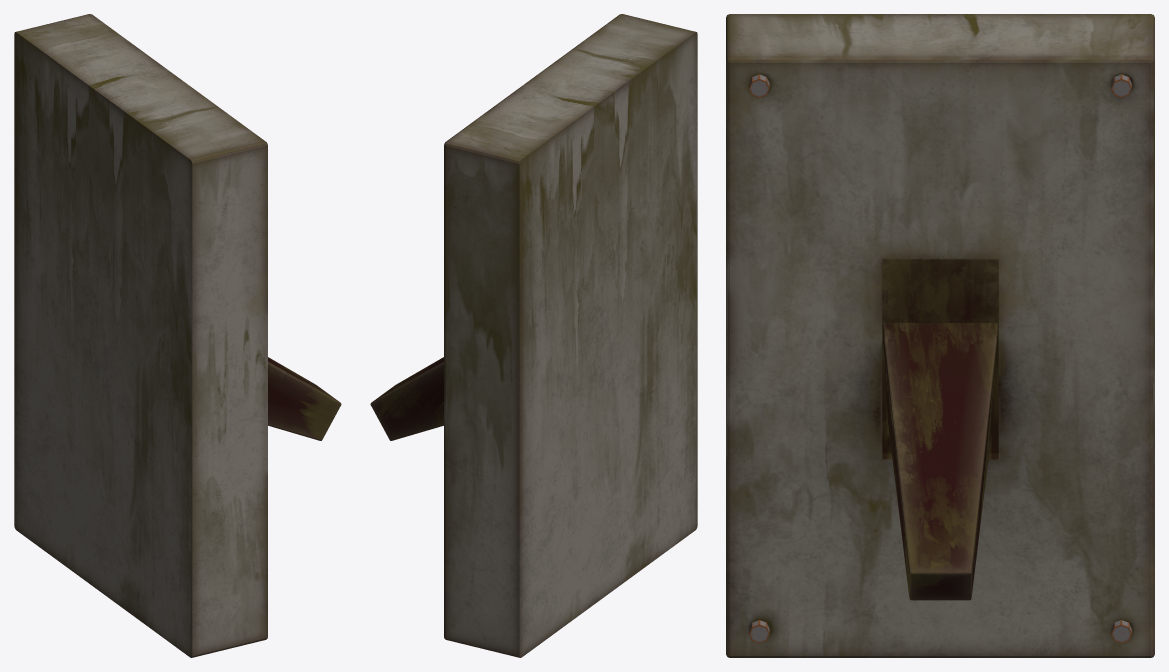
Rendered from Switch.fbx.
3 views of the same model, side by side, from view 1: azimuth 30°, elevation 25°; view 2: azimuth 150°, elevation 25°; view 3: azimuth 270°, elevation 25° (orthographic). The views are drawn at different scales.
Parts seen in each view (by area): view 1: Cube, Cube.001; view 2: Cube, Cube.001; view 3: Cube, Cube.001, Cylinder.
Part boxes in pixels (x1=…): Cube: x1=14, y1=14, x2=267, y2=657; Cube.001: x1=268, y1=357, x2=341, y2=440; Cube: x1=444, y1=14, x2=697, y2=657; Cube.001: x1=370, y1=357, x2=443, y2=440; Cube: x1=726, y1=14, x2=1154, y2=657; Cube.001: x1=882, y1=323, x2=998, y2=600; Cylinder: x1=749, y1=74, x2=1131, y2=643.
Bounding box in the file's own units: 94.92 × 200 × 129.
2 materials, 2 textured.
